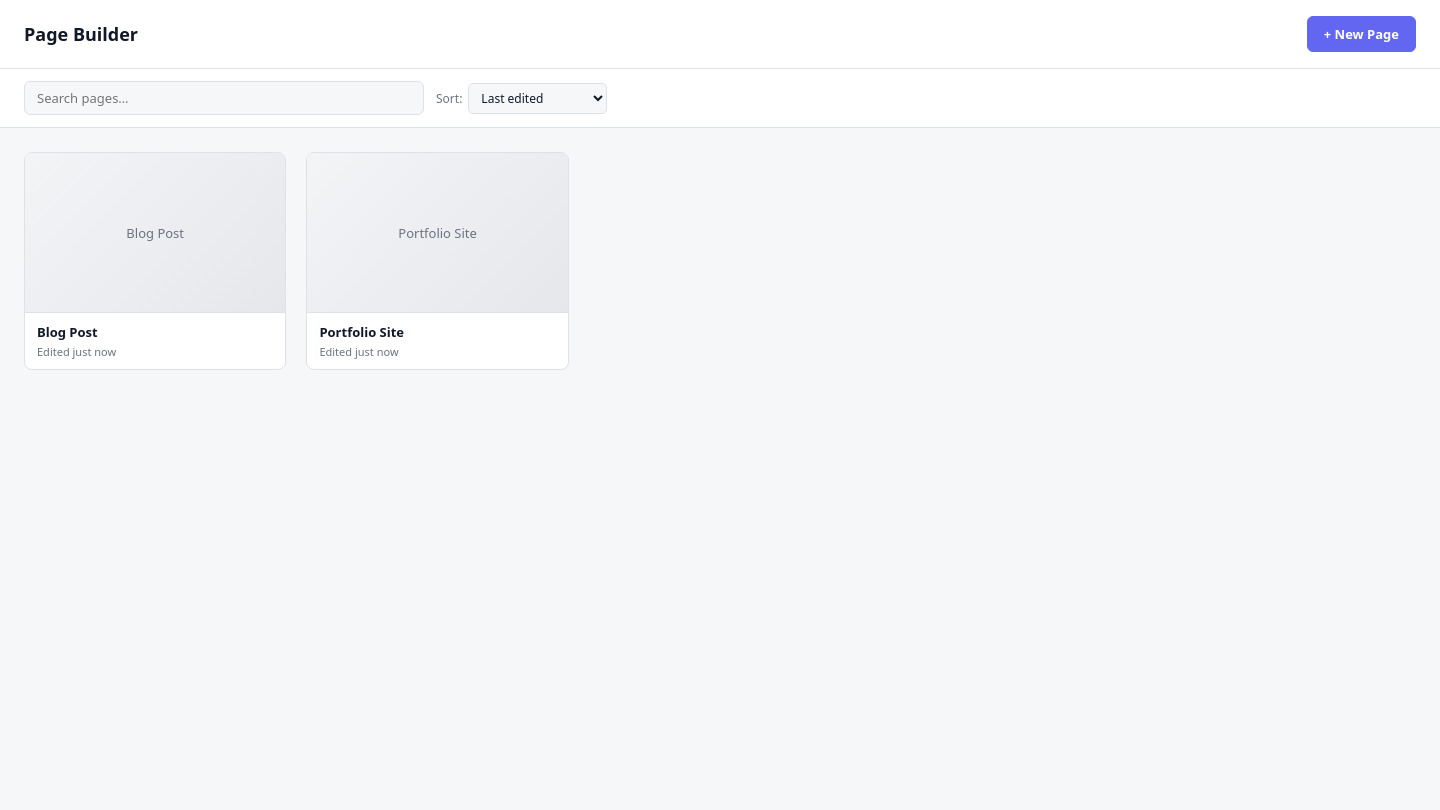
Test case: WorkspaceDashboard › search is case-insensitive
In the search field with test id "dashboard-search": coordinates (224, 98) top-left (24, 81), bottom-right (424, 115), type "PORTFOLIO"
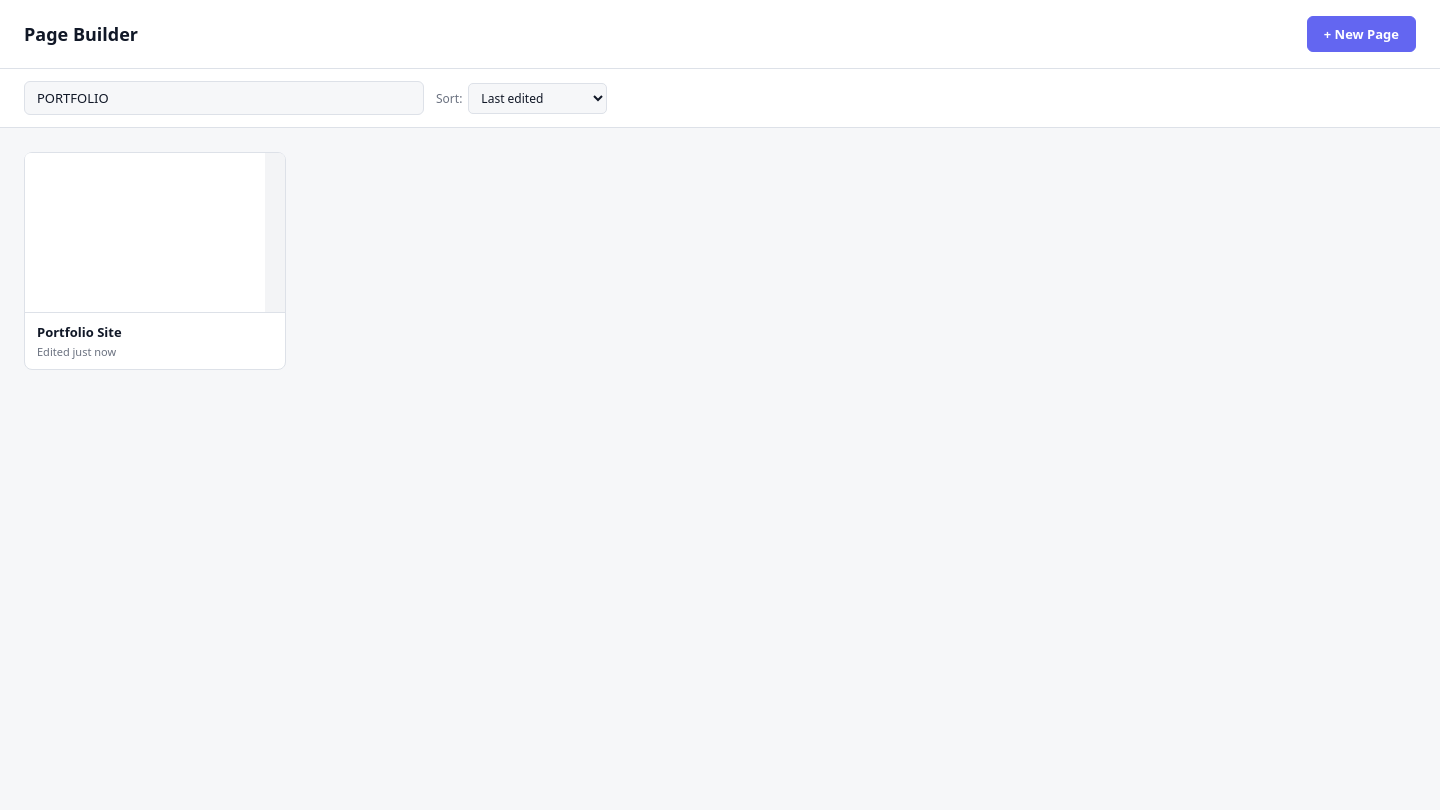
Expected: the text "Portfolio Site" is shown, top-left (37, 323), bottom-right (122, 341)
Expected: the button "Blog Post" is gone
